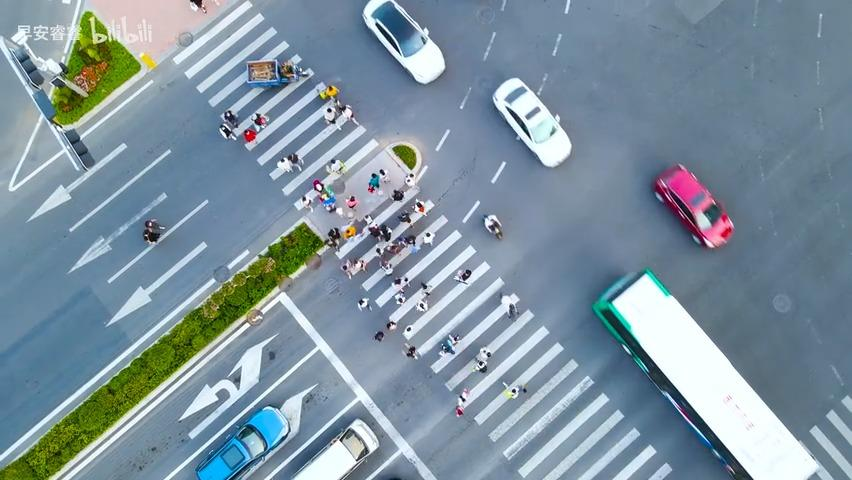Civilian: (367, 224, 396, 244), (499, 291, 518, 319), (374, 238, 398, 260), (482, 214, 503, 239), (473, 346, 492, 372), (143, 219, 162, 244), (280, 59, 301, 81), (438, 333, 459, 355), (381, 263, 400, 287), (455, 387, 470, 417), (324, 106, 342, 131), (341, 104, 359, 126), (402, 231, 417, 257), (250, 112, 269, 132), (219, 120, 237, 140), (338, 253, 353, 276), (327, 227, 340, 252), (501, 381, 519, 399), (288, 152, 304, 172), (453, 268, 471, 285), (223, 109, 239, 128), (325, 158, 342, 175), (275, 156, 292, 173), (411, 198, 427, 216), (324, 84, 339, 102), (367, 172, 379, 194), (361, 211, 375, 228), (189, 0, 207, 13), (341, 223, 354, 241), (455, 394, 465, 417), (357, 296, 372, 311), (243, 127, 257, 143), (345, 195, 359, 211), (421, 231, 435, 247), (301, 195, 314, 212), (355, 260, 368, 277), (472, 359, 487, 372), (419, 280, 431, 296), (264, 256, 275, 273), (415, 298, 428, 312), (390, 188, 404, 201), (406, 344, 418, 359), (404, 172, 416, 187), (379, 168, 390, 183), (460, 387, 470, 401), (493, 224, 502, 239), (373, 330, 384, 342), (386, 319, 397, 330), (455, 404, 464, 417), (519, 382, 527, 392)
